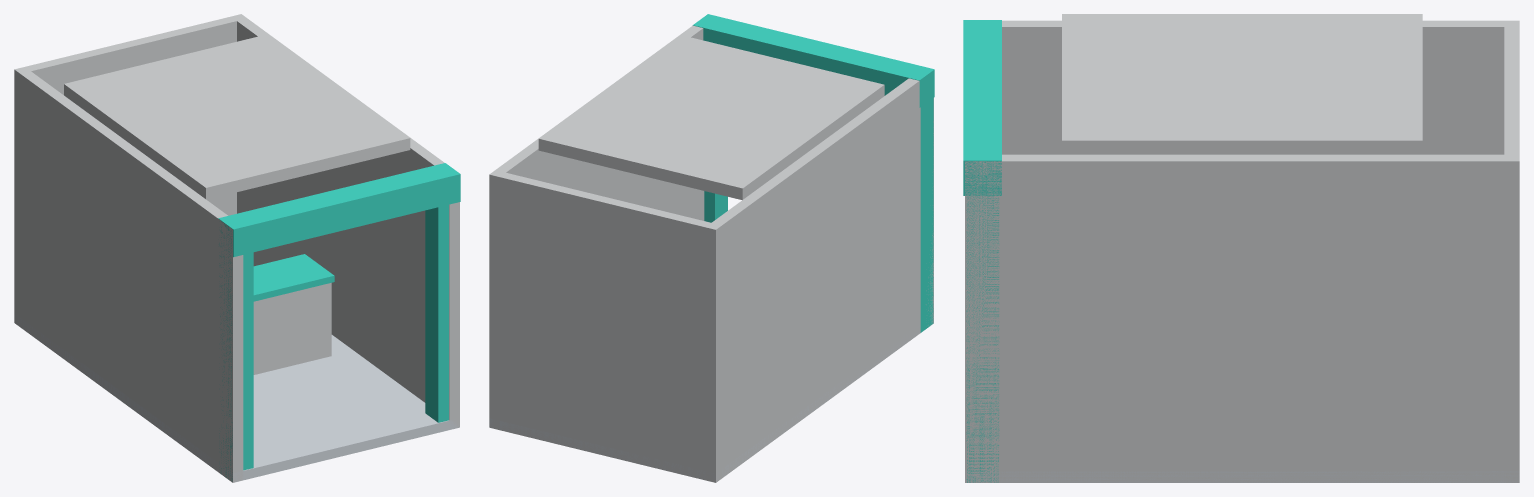
3 renders of one model, left to right at view 1: azimuth 30°, elevation 25°; view 2: azimuth 150°, elevation 25°; view 3: azimuth 270°, elevation 25°, orthographic. The views are drawn at different scales.
Parts seen in each view (by area): view 1: Exhibition Booth Concept; view 2: Exhibition Booth Concept; view 3: Exhibition Booth Concept.
Part boxes in pixels (left/top/right/bottom): Exhibition Booth Concept: left=14, top=14, right=460, bottom=482; Exhibition Booth Concept: left=489, top=14, right=934, bottom=482; Exhibition Booth Concept: left=963, top=14, right=1519, bottom=482.
Size of the model in its own units: 3 by 3.34 by 5.02.
